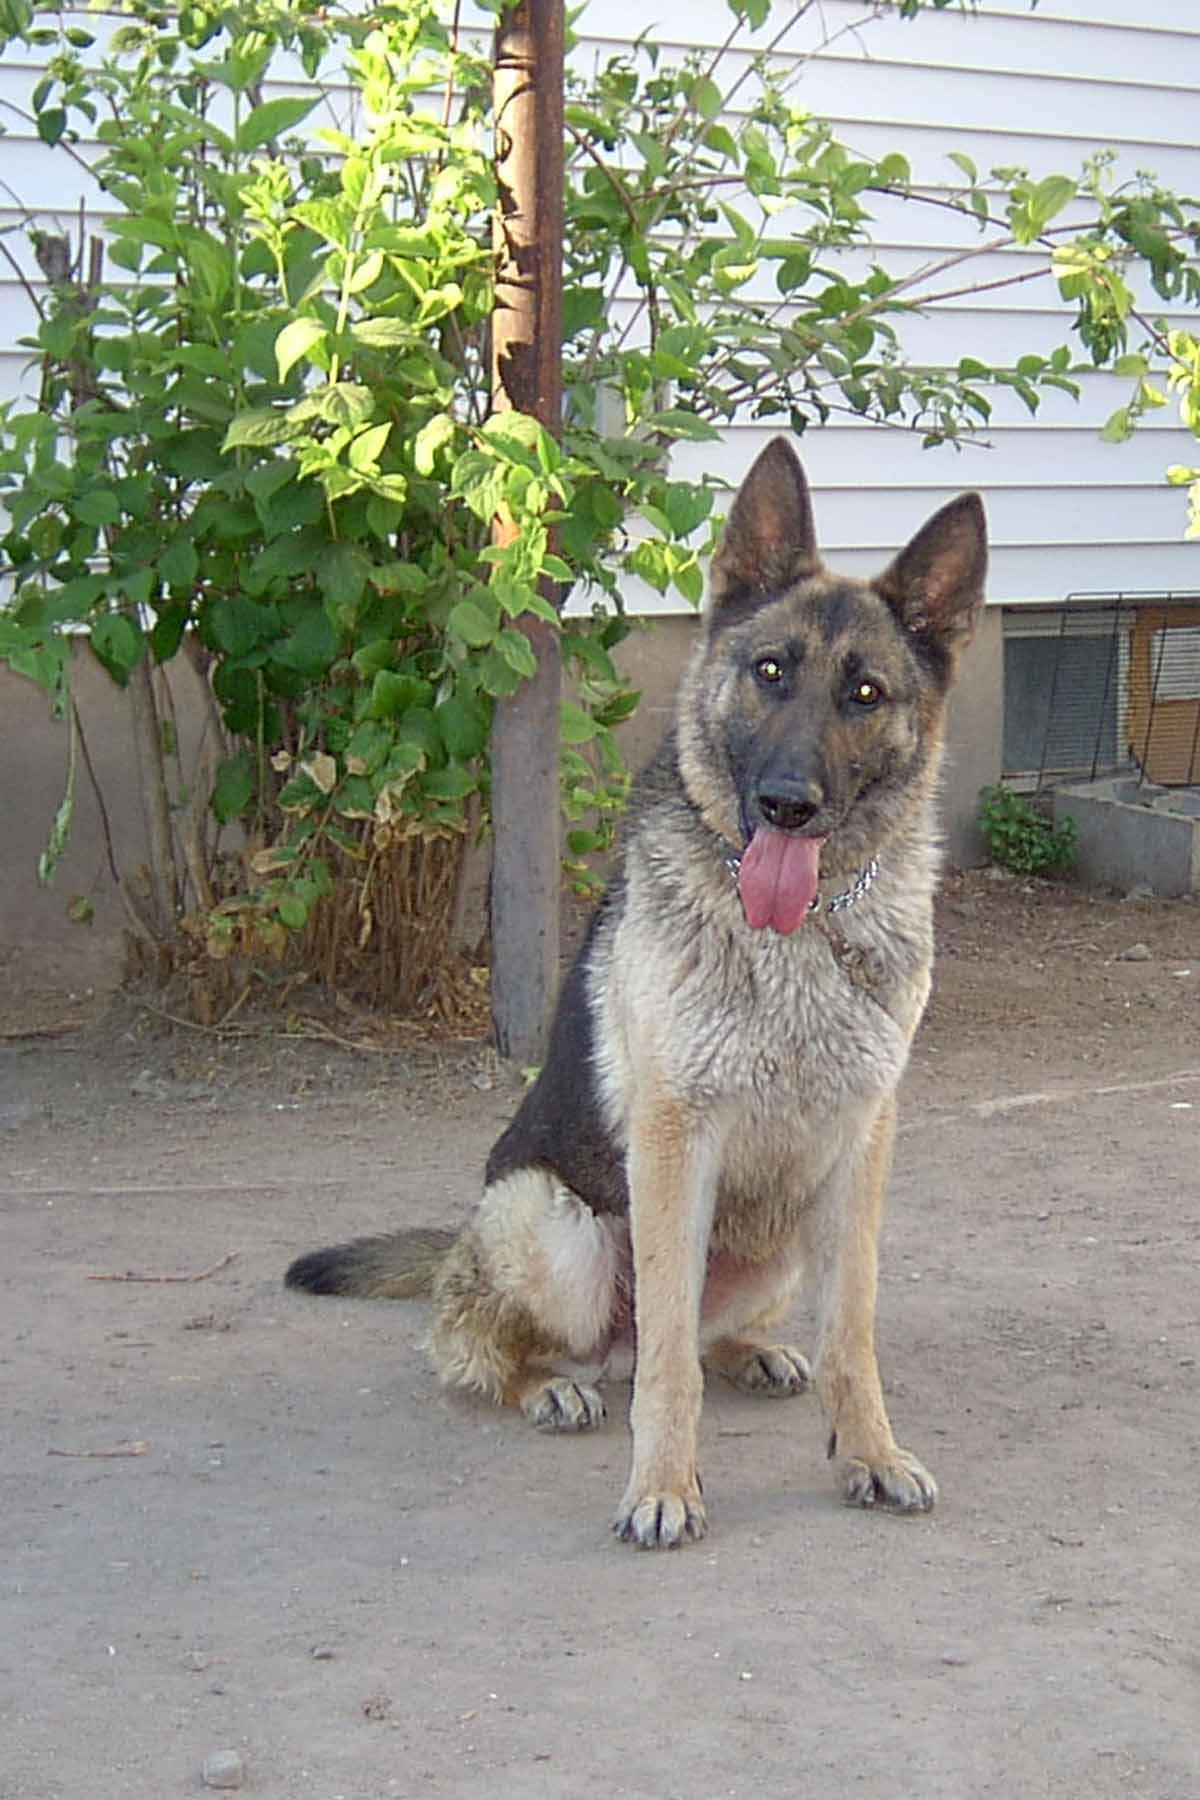German_shepherd: (284, 433, 987, 1548)
